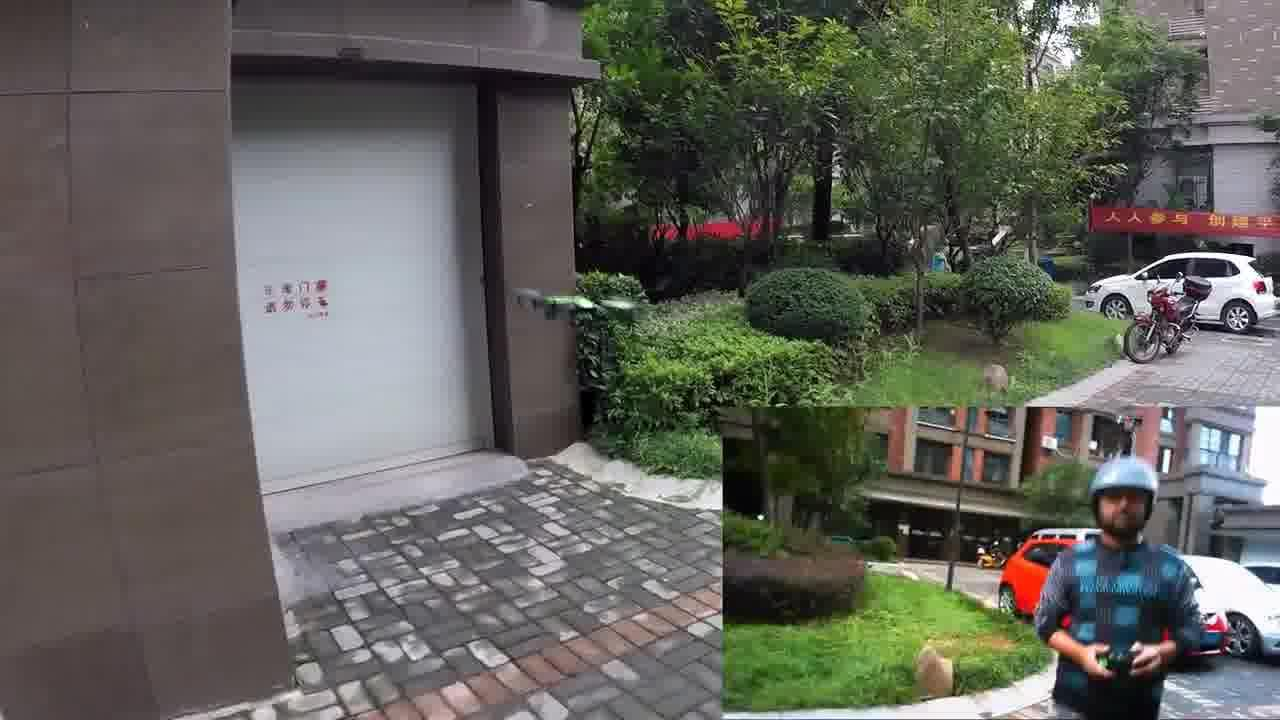drone: (500, 281, 660, 347)
